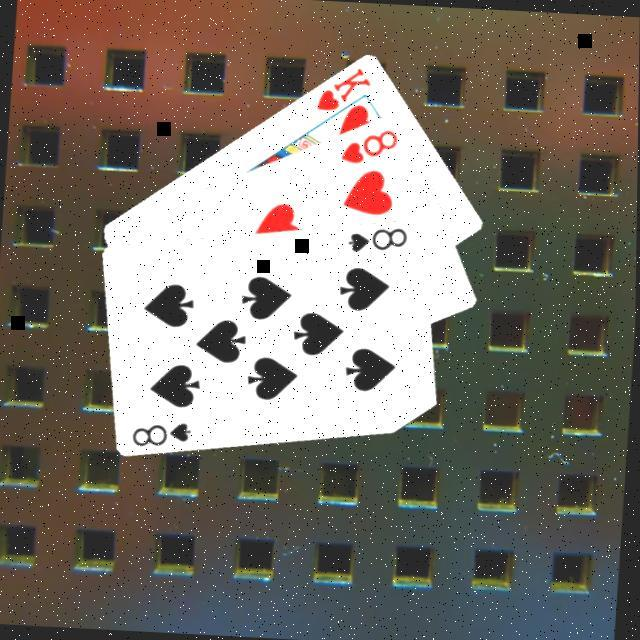8H: (335, 122, 402, 166)
8S: (128, 413, 195, 450), (342, 220, 410, 254)
KH: (310, 59, 374, 114)
